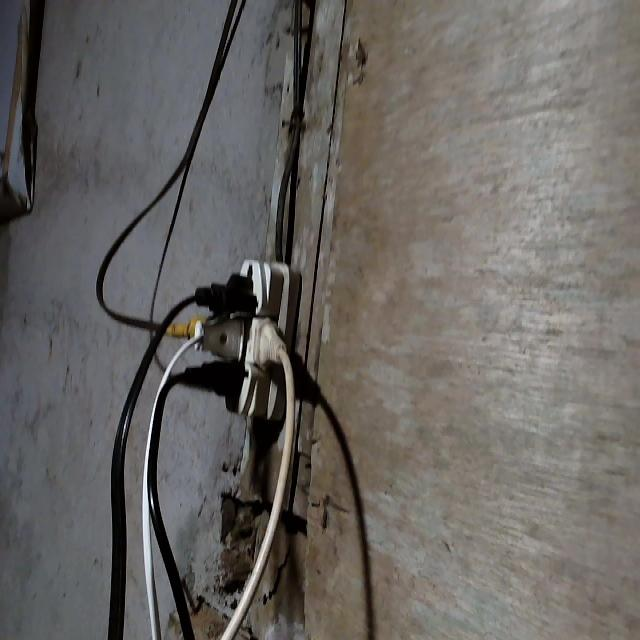-: (184, 258, 305, 422)
